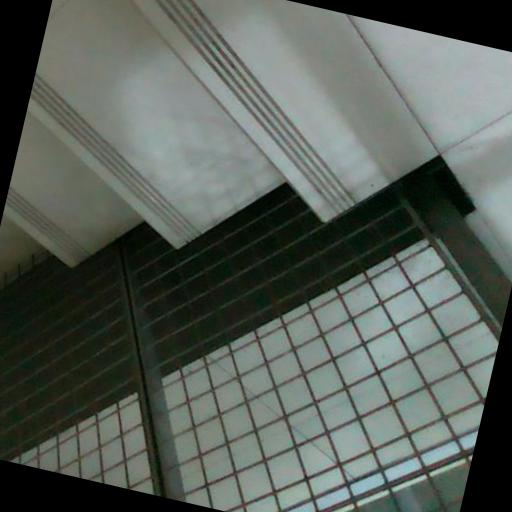stairs: (0, 0, 434, 273), (132, 0, 434, 218)
